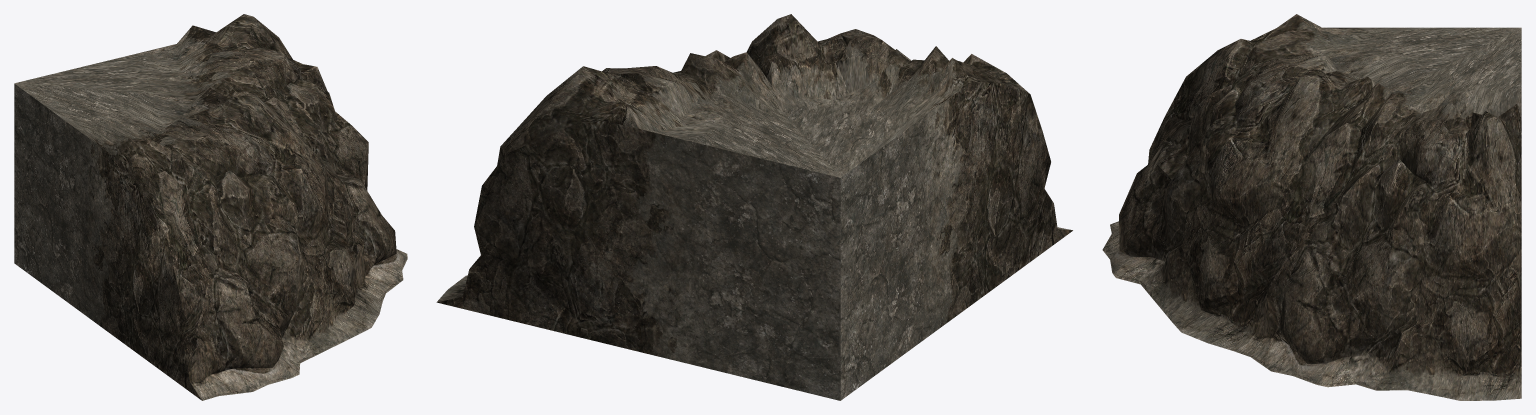
Rendered from SM_Env_Fire_Cliffs_CliffWall_05b.FBX.
3 renders of one model, left to right at view 1: azimuth 30°, elevation 25°; view 2: azimuth 150°, elevation 25°; view 3: azimuth 270°, elevation 25°, orthographic. The views are drawn at different scales.
Parts seen in each view (by area): view 1: SM_Env_Fire_Cliffs_CliffWall_05b; view 2: SM_Env_Fire_Cliffs_CliffWall_05b; view 3: SM_Env_Fire_Cliffs_CliffWall_05b.
Part boxes in pixels (x1,y1,x2,y2): SM_Env_Fire_Cliffs_CliffWall_05b: (14, 14, 407, 400); SM_Env_Fire_Cliffs_CliffWall_05b: (436, 14, 1072, 400); SM_Env_Fire_Cliffs_CliffWall_05b: (1102, 14, 1521, 400).
Size of the model in its own units: 1297 by 1303 by 766.
